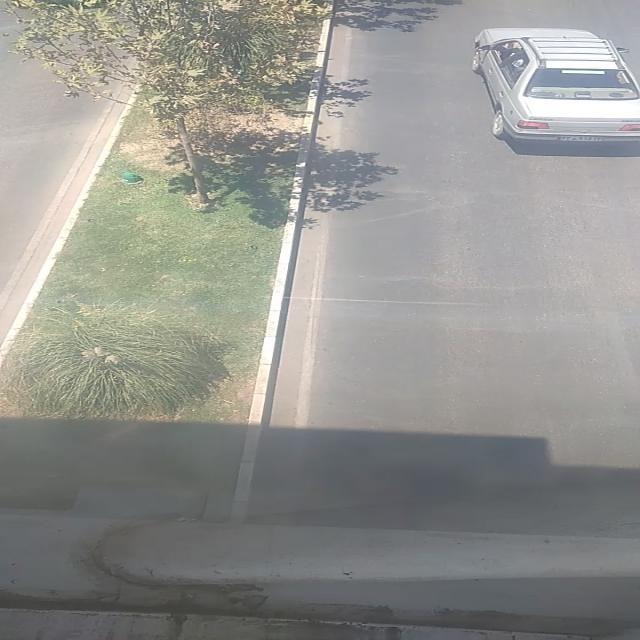car: (471, 27, 640, 146)
